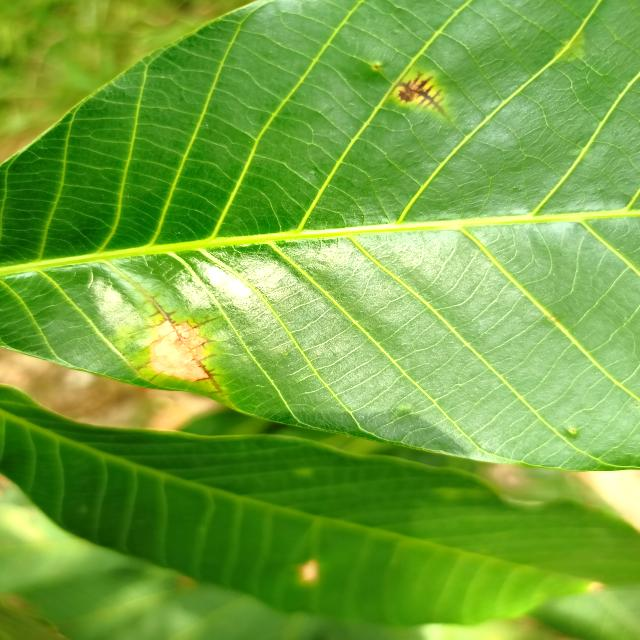Corynespora: (139, 292, 227, 394), (388, 68, 448, 118)
Leaf-Blight: (150, 321, 208, 381)
